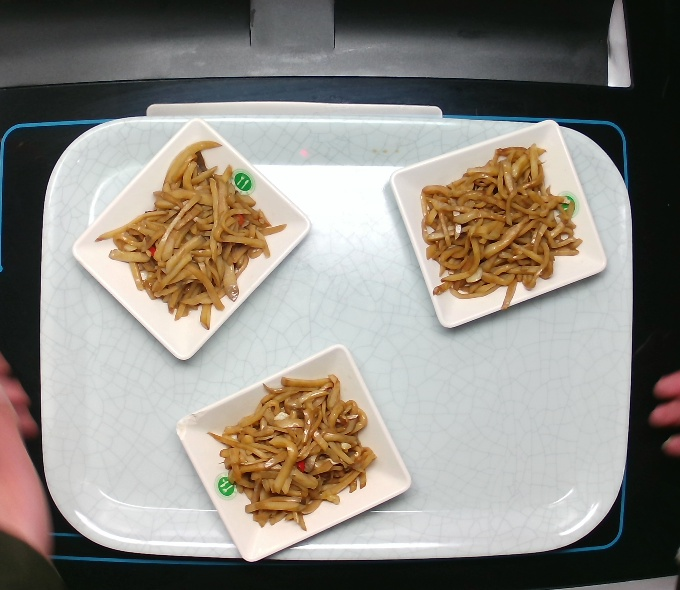wcq-LiangBanMoGu: (91, 136, 291, 334), (417, 139, 590, 315), (205, 369, 382, 538)
